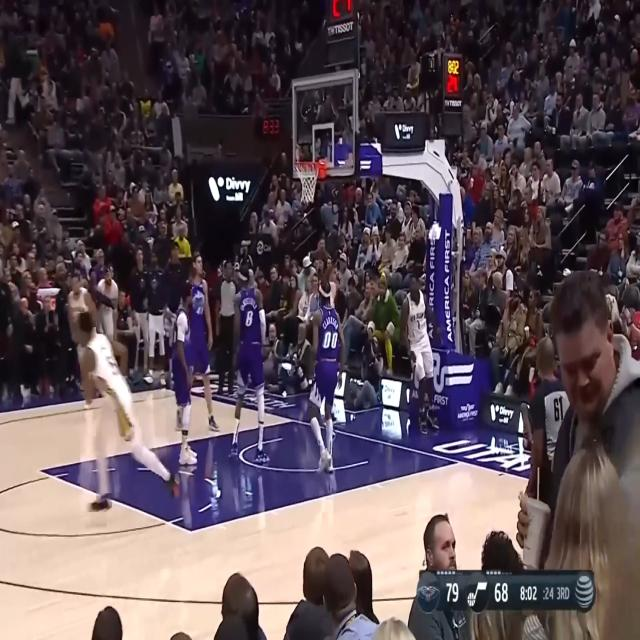Clock: (444, 56, 462, 96), (328, 0, 354, 24)
Hoop: (295, 160, 322, 205)
Overlay: (416, 569, 597, 614)
Player: (75, 308, 180, 516), (226, 263, 272, 465), (176, 248, 220, 432), (309, 276, 343, 476), (400, 272, 441, 434), (68, 270, 105, 406), (170, 282, 197, 464)
Ref: (522, 332, 577, 631), (214, 258, 240, 396)
Scoreboard: (416, 570, 573, 612)
